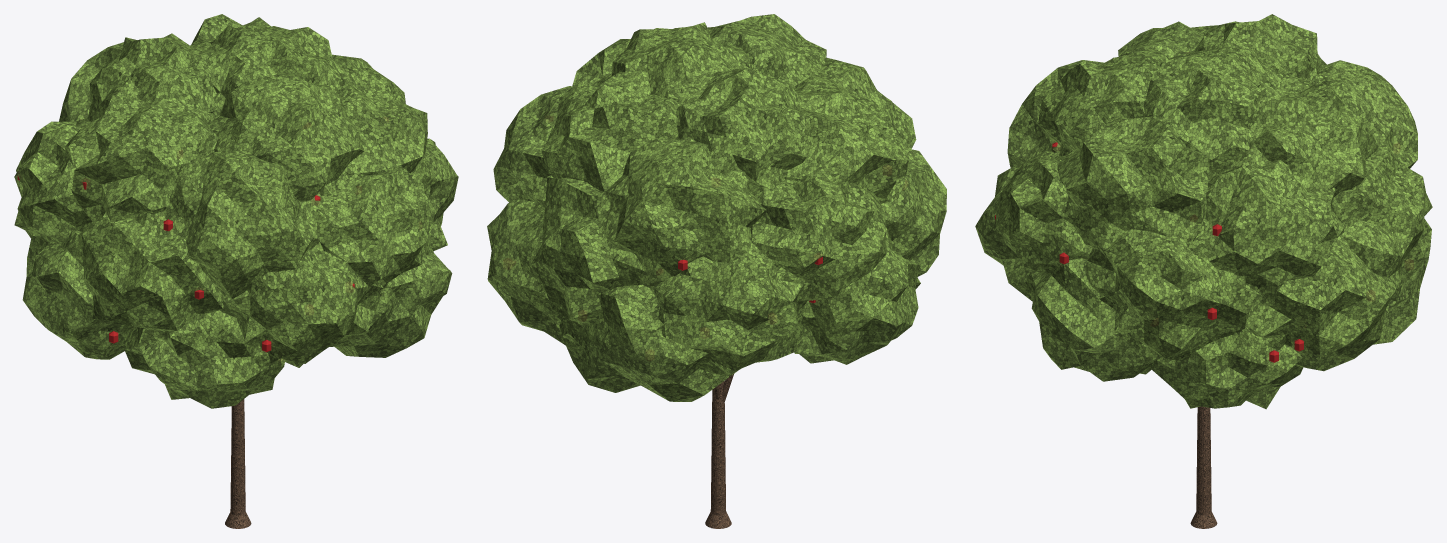
3 views of the same model, side by side, from view 1: azimuth 30°, elevation 25°; view 2: azimuth 150°, elevation 25°; view 3: azimuth 270°, elevation 25° (orthographic).
Visible parts, largest first — view 1: canopyDiameter=3;clearTrunkHeight=0.8;foliageMaterial=foliag (×2); view 2: canopyDiameter=3;clearTrunkHeight=0.8;foliageMaterial=foliag (×2); view 3: canopyDiameter=3;clearTrunkHeight=0.8;foliageMaterial=foliag (×3).
Part boxes in pixels (x1,y1,x2,y2): canopyDiameter=3;clearTrunkHeight=0.8;foliageMaterial=foliag (×2): (14, 14, 458, 528); canopyDiameter=3;clearTrunkHeight=0.8;foliageMaterial=foliag (×2): (487, 14, 946, 528); canopyDiameter=3;clearTrunkHeight=0.8;foliageMaterial=foliag (×3): (975, 14, 1432, 528).
Size of the model in its own units: 3 by 3 by 3.5.
Materials: 3 (2 with a texture image).
